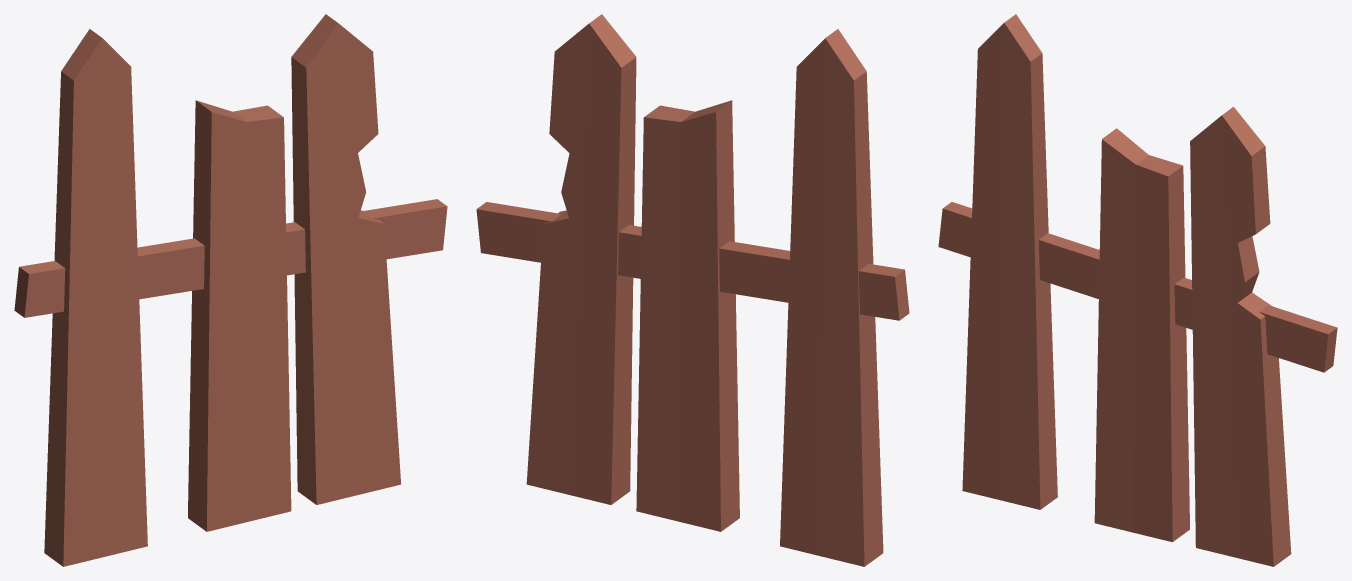
Rendered from Fence_003.fbx.
3 views of the same model, side by side, from view 1: azimuth 30°, elevation 25°; view 2: azimuth 150°, elevation 25°; view 3: azimuth 330°, elevation 25° (orthographic). The views are drawn at different scales.
Visible parts, largest first — view 1: Fence_003; view 2: Fence_003; view 3: Fence_003.
Part boxes in pixels (x1=…): Fence_003: x1=14, y1=14, x2=447, y2=566; Fence_003: x1=476, y1=14, x2=909, y2=566; Fence_003: x1=938, y1=14, x2=1337, y2=566.
Bounding box in the file's own units: 258 × 300 × 20.02.
